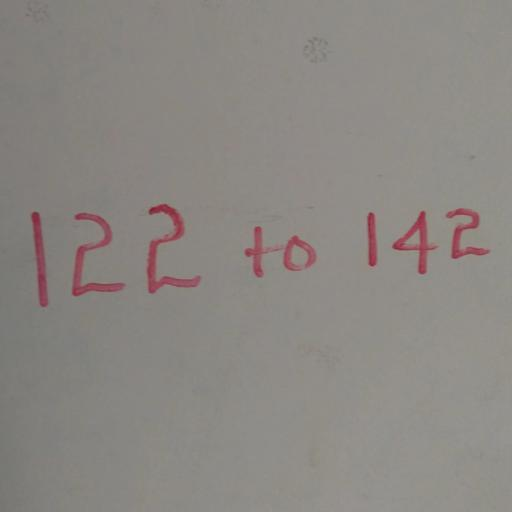stain: (21, 187, 512, 329)
